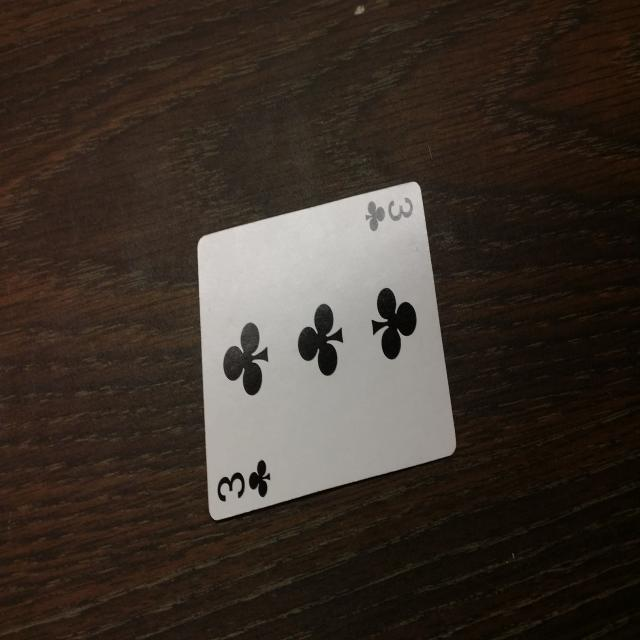3c: (210, 446, 278, 509), (361, 192, 419, 240)
